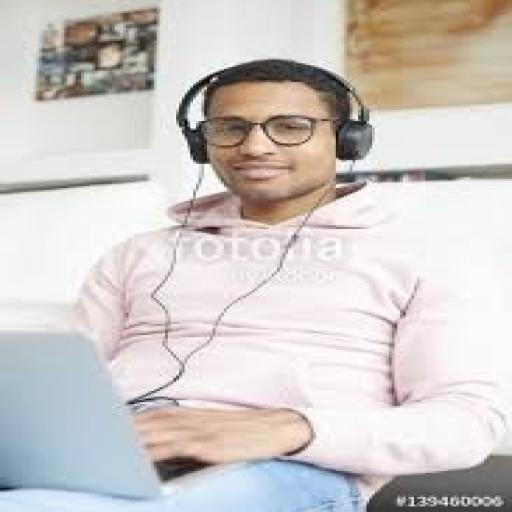listening_to_music: (170, 58, 378, 166)
